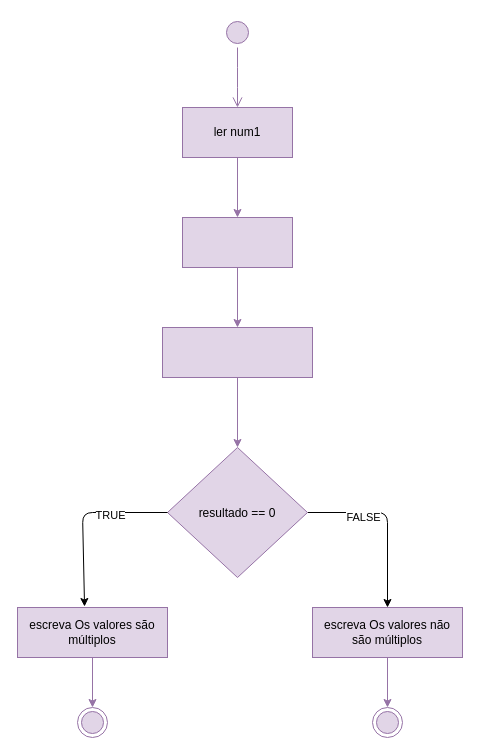
The diagram is 480 pixels wide and 755 high, and some of its shapes have lost their labels. The centre of each missing label's shape, as x and y in pixels:
"ler num2" goes at (237,242).
"resultado = num1 % num2" goes at (237,352).
